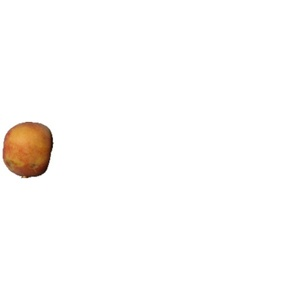pêssego: (1, 122, 54, 179)
